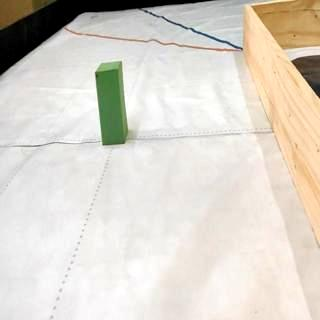greenbox: (95, 62, 128, 144)
